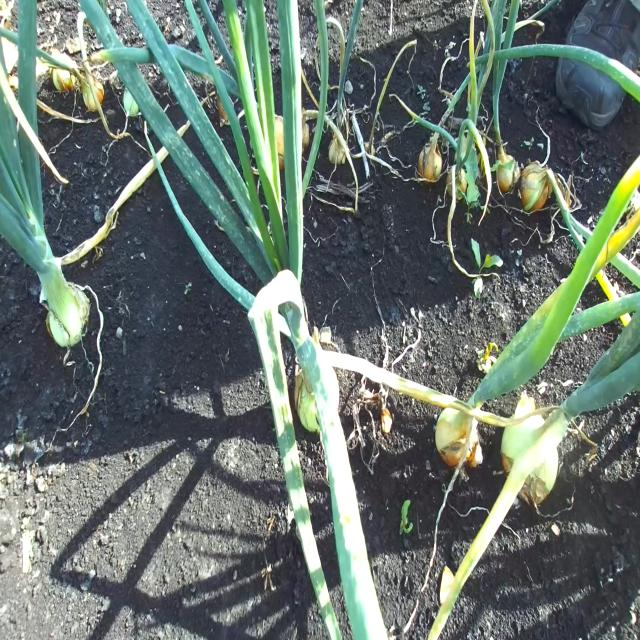onion: (500, 407, 568, 507), (435, 404, 483, 470), (519, 160, 551, 214), (294, 368, 320, 434), (492, 143, 521, 195), (417, 136, 443, 183), (446, 164, 468, 202)
